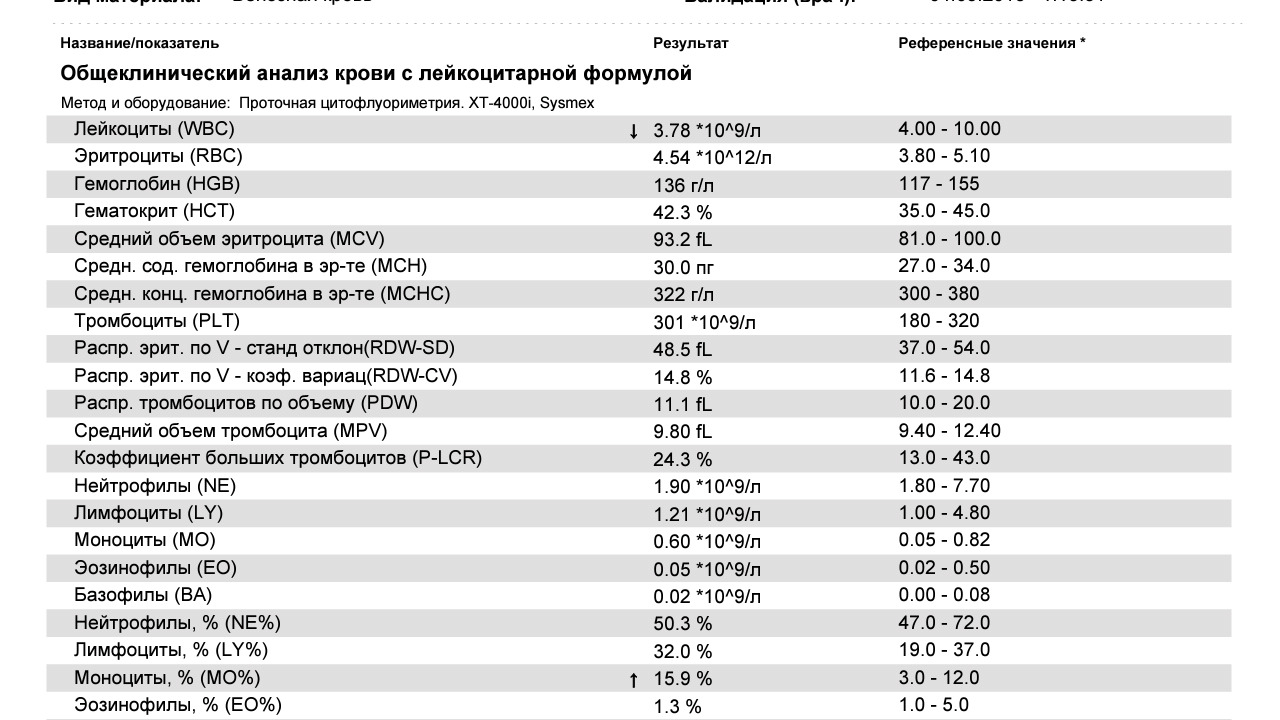column: (72, 119, 483, 715), (651, 119, 772, 715), (896, 119, 1002, 715), (898, 36, 1075, 50), (60, 36, 219, 50), (653, 36, 730, 50)
